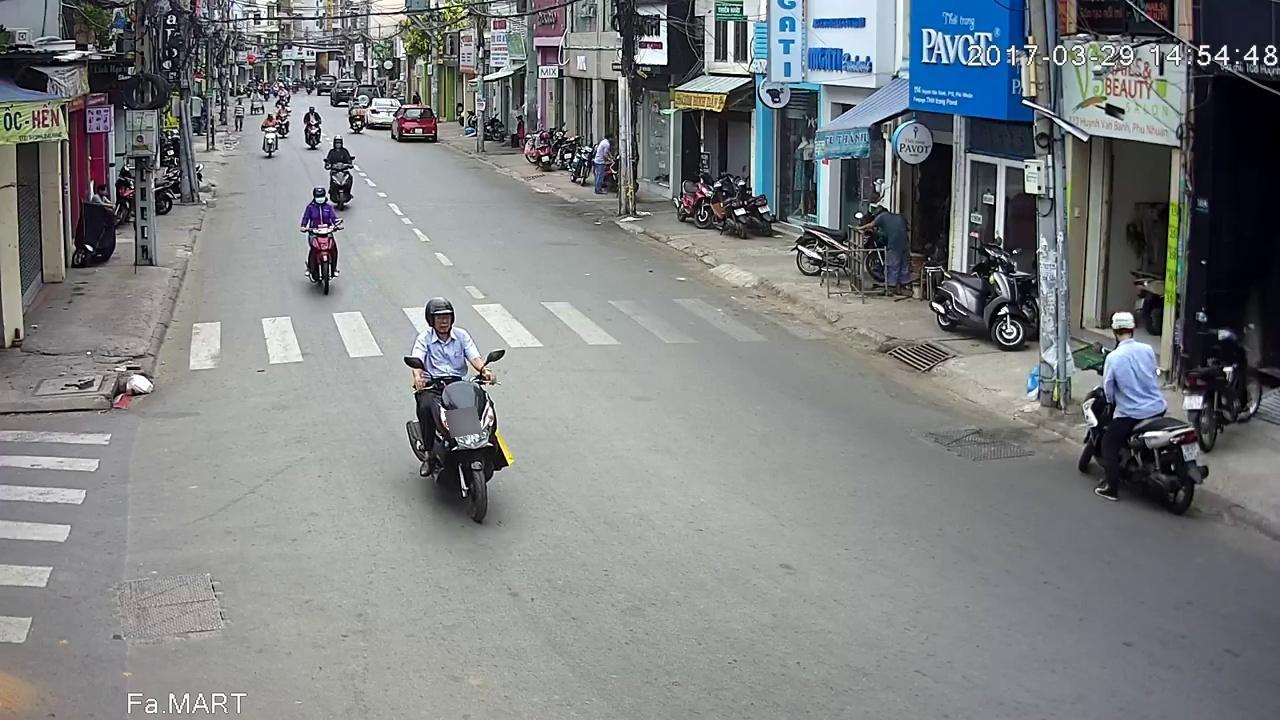xe hoi: (389, 104, 439, 142)
xe may: (401, 299, 513, 531), (1075, 317, 1204, 516), (300, 185, 343, 294), (325, 136, 358, 214), (302, 105, 323, 150), (259, 112, 278, 159), (277, 105, 293, 142)
